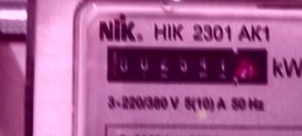0: (139, 48, 152, 70), (118, 50, 131, 71)
1: (218, 51, 229, 71)
2: (159, 50, 171, 70)
4: (199, 50, 211, 71)
5: (178, 49, 190, 71)
6: (240, 64, 251, 79)
screen: (98, 34, 281, 92)
